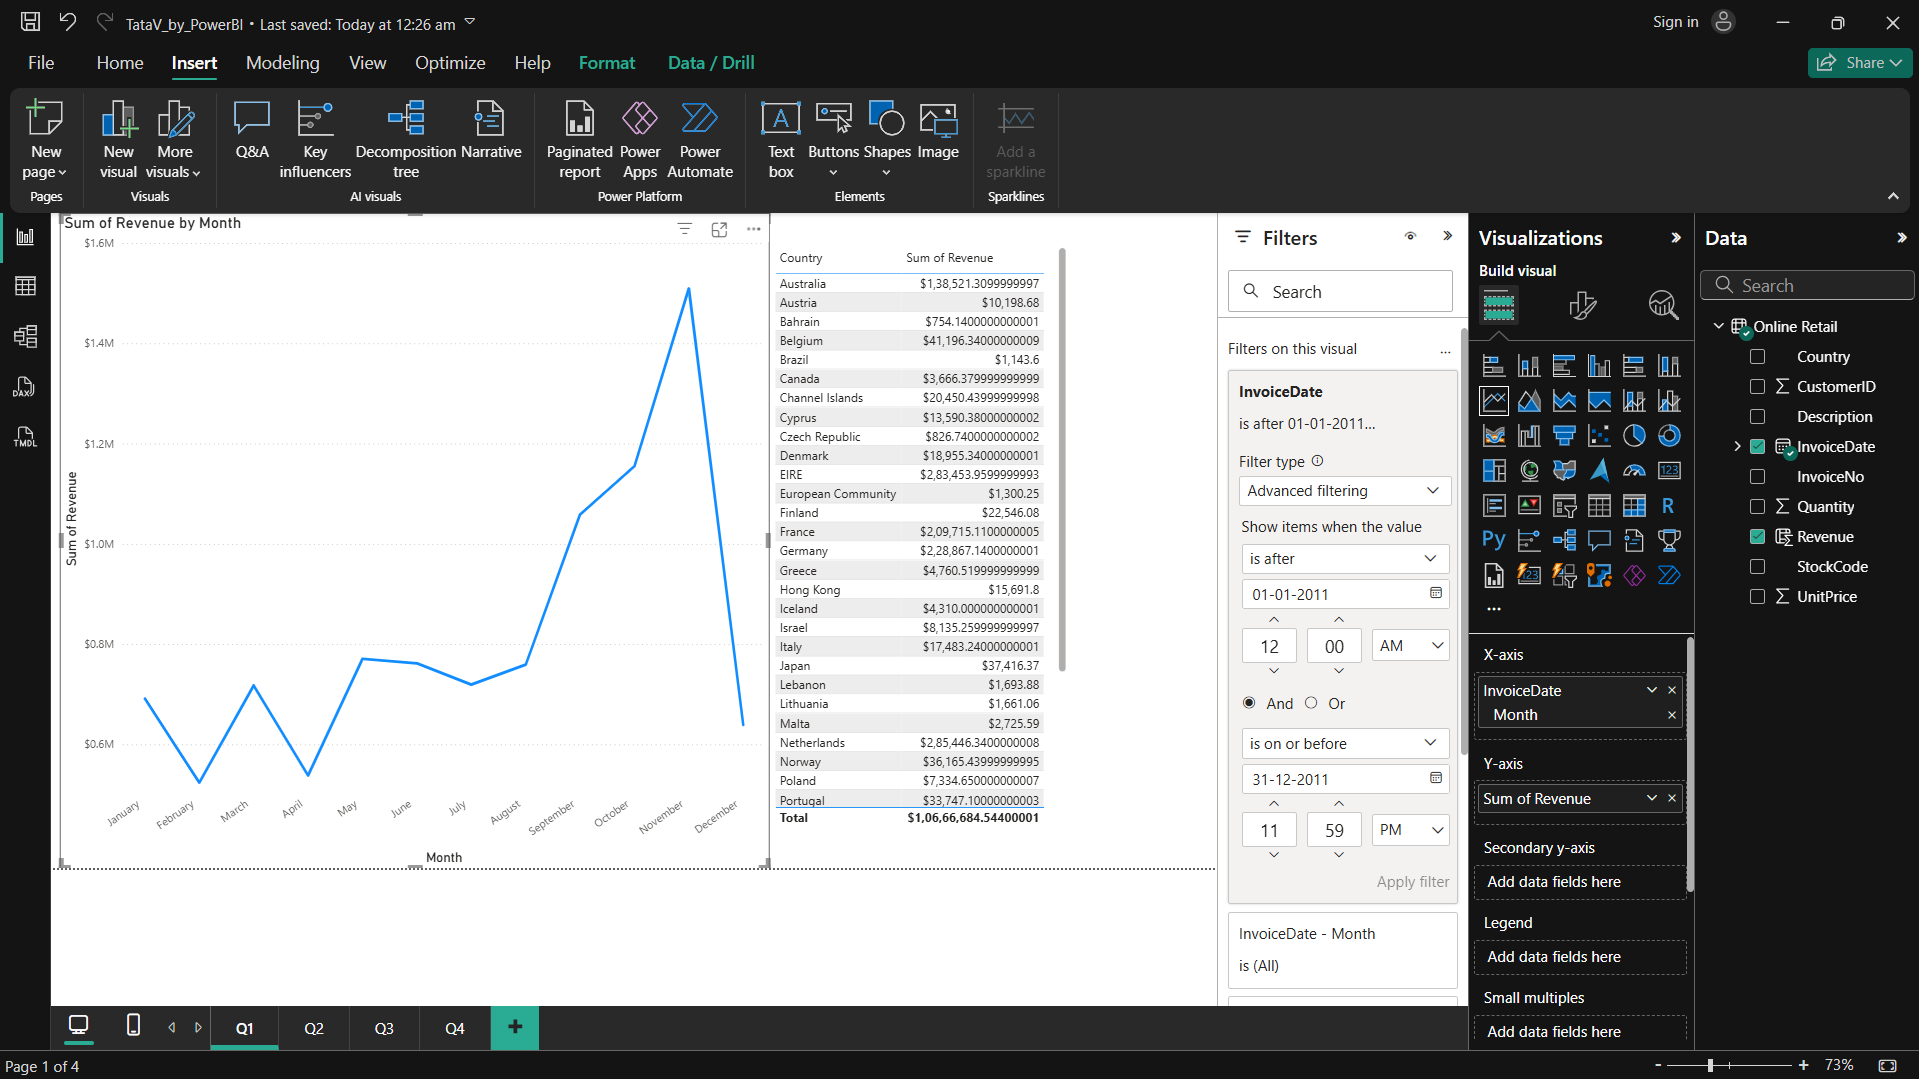

The dashboard page shown, as its layout file describes it:
{"tool":"powerbi","page":{"name":"Q1","canvas":[1280,720],"ordinal":0},"visuals":[{"type":"lineChart","fields":{"Category":["Online Retail.InvoiceDate.Variation.Date Hierarchy.Month"],"Y":["Sum(Online Retail.Revenue)"]},"box":[9.6,0,779.4,720.4],"z":0},{"type":"tableEx","fields":{"Values":["Online Retail.Country","Sum(Online Retail.Revenue)"]},"box":[789,32.9,330.7,644.9],"z":1000}]}

Visuals, with their boxes on the page's 1280x720 design canvas (x1, y1, x2, y2). These are canvas units, not pixel positions in the 1919x1079 screenshot, which may show the page scaled, cropped or inside an application window:
lineChart - Online Retail.InvoiceDate.Variation.Date Hierarchy.Month x Sum(Online Retail.Revenue): l=10, t=0, r=789, b=720
tableEx - Online Retail.Country x Sum(Online Retail.Revenue): l=789, t=33, r=1120, b=678
